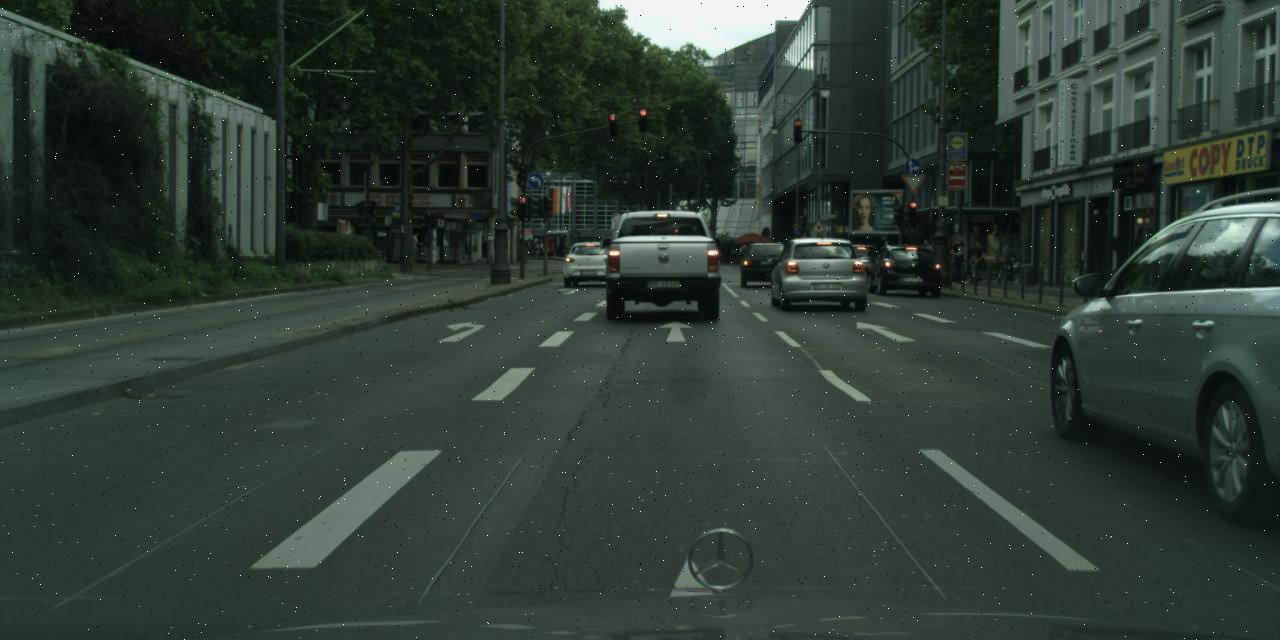ped: (949, 234, 968, 282), (920, 238, 939, 284), (971, 240, 988, 282), (966, 241, 982, 281), (409, 231, 421, 262), (527, 236, 542, 258), (481, 239, 488, 258), (514, 232, 518, 257)
